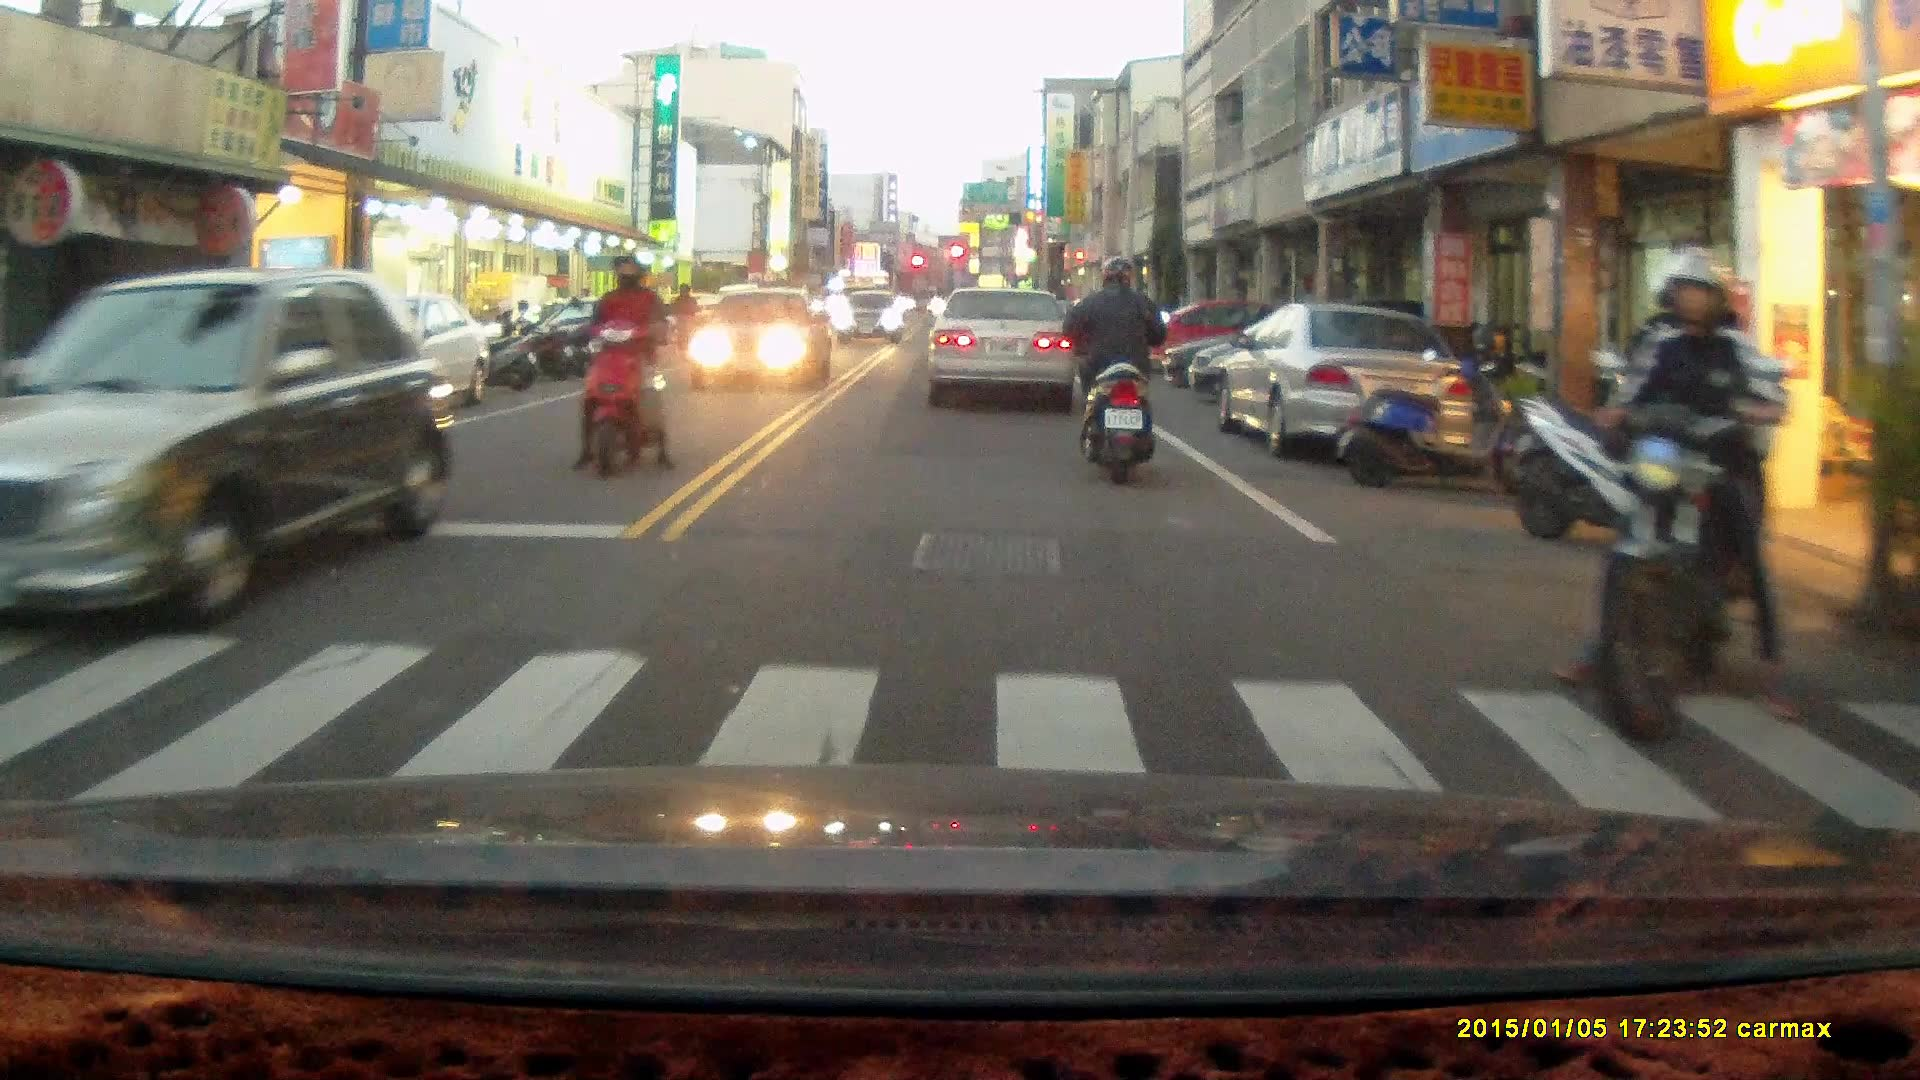pedestrian: (668, 282, 697, 356)
rider: (1561, 252, 1809, 751), (1066, 252, 1175, 482), (568, 248, 677, 481)
vehicle: (2, 268, 458, 638), (1220, 304, 1473, 463), (245, 279, 488, 438), (928, 288, 1082, 398), (687, 284, 833, 387), (831, 290, 908, 347)
